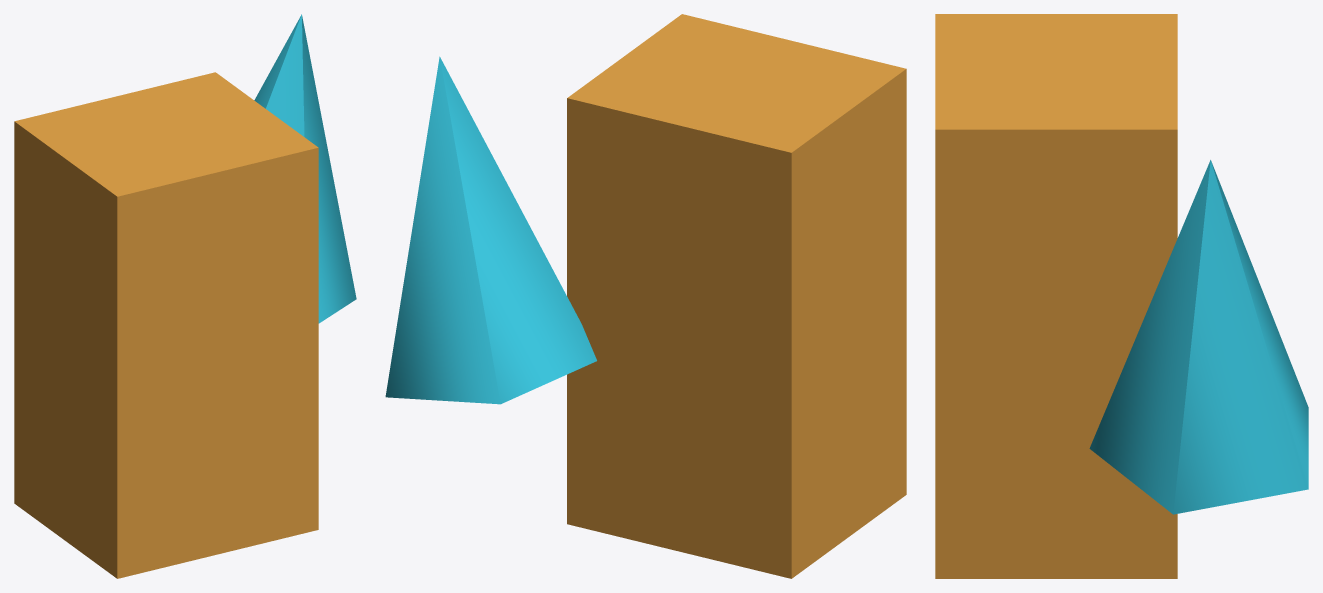
The model's file is frame-10.glb.
The picture shows the model from 3 angles, left to right: view 1: azimuth 30°, elevation 25°; view 2: azimuth 150°, elevation 25°; view 3: azimuth 270°, elevation 25°; orthographic projection. The views are drawn at different scales.
Bounding box in the file's own units: 0.4195 × 0.4776 × 0.339.
